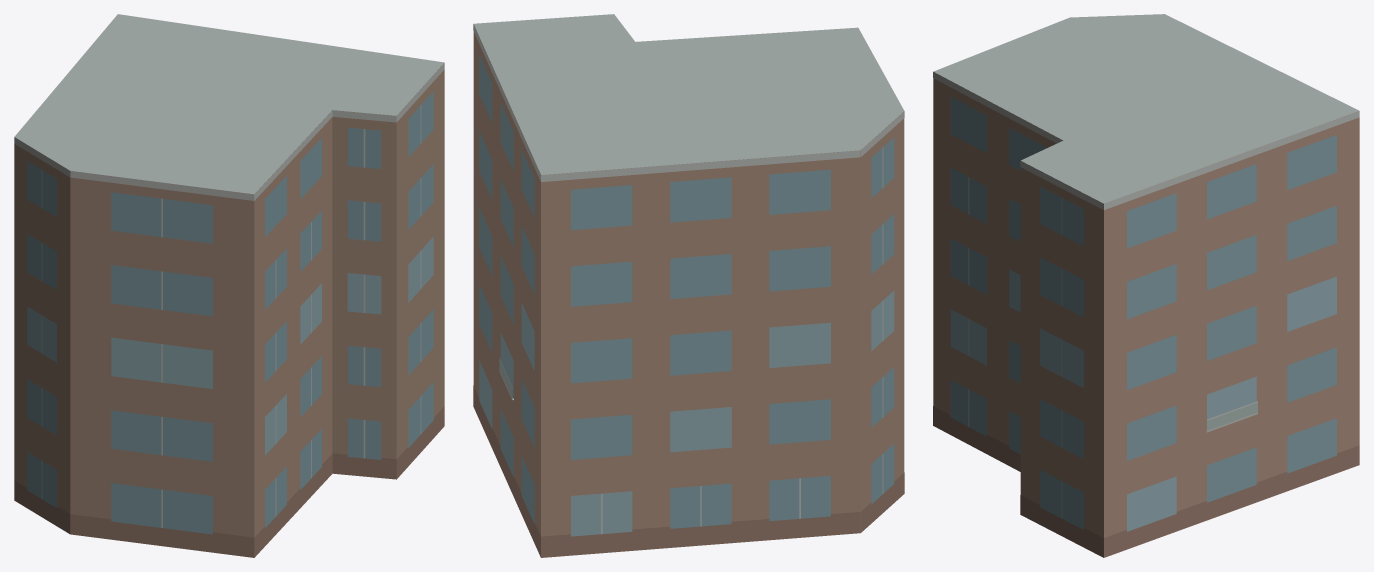
The model's file is survey-upis-32628303.glb.
The picture shows the model from 3 angles, left to right: view 1: azimuth 30°, elevation 25°; view 2: azimuth 150°, elevation 25°; view 3: azimuth 270°, elevation 25°; orthographic projection. The views are drawn at different scales.
Visible parts, largest first — view 1: survey-upis-32628303.tmp; view 2: survey-upis-32628303.tmp; view 3: survey-upis-32628303.tmp.
Part boxes in pixels (x1,y1,x2,y2): survey-upis-32628303.tmp: (14,14,444,557); survey-upis-32628303.tmp: (473,14,904,557); survey-upis-32628303.tmp: (933,14,1359,557).
Bounding box in the file's own units: 15.29 × 13.3 × 14.52.
